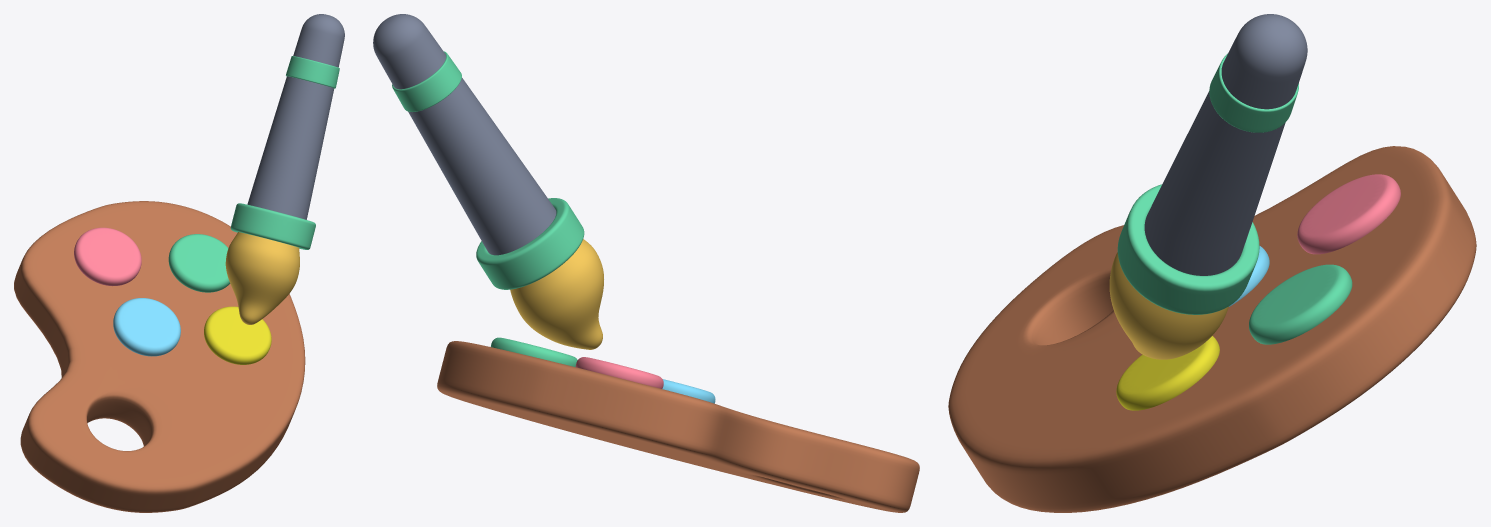
Rendered from Brush and paint pallet.fbx.
The picture shows the model from 3 angles, left to right: view 1: azimuth 30°, elevation 25°; view 2: azimuth 150°, elevation 25°; view 3: azimuth 270°, elevation 25°; orthographic projection. The views are drawn at different scales.
Visible parts, largest first — view 1: Plane_001, Cylinder, Cylinder_002, Cylinder_005, Cylinder_003, Cylinder_006; view 2: Plane_001, Cylinder, Cylinder_002, Cylinder_003; view 3: Plane_001, Cylinder, Cylinder_002, Cylinder_003, Cylinder_006.
Boxes of the visible parts, x1,y1,x2,y2 form: Plane_001: (14,201,305,512); Cylinder: (225,14,344,324); Cylinder_002: (74,227,141,286); Cylinder_005: (113,298,180,356); Cylinder_003: (168,234,230,292); Cylinder_006: (204,306,271,364); Plane_001: (437,341,919,512); Cylinder: (373,14,603,349); Cylinder_002: (575,357,663,388); Cylinder_003: (490,337,577,366); Plane_001: (948,146,1476,512); Cylinder: (1109,14,1307,359); Cylinder_002: (1297,174,1400,254); Cylinder_003: (1249,264,1352,344); Cylinder_006: (1116,336,1219,410).
Size of the model in its own units: 239 by 237 by 182.
